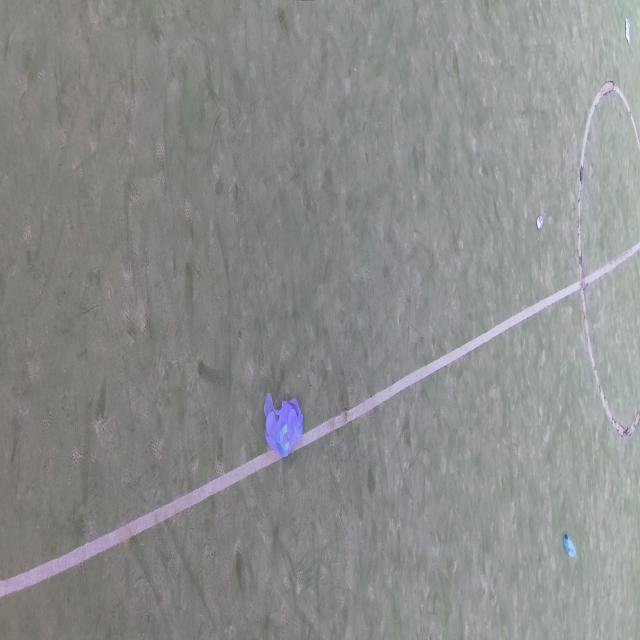rubbish: (264, 392, 304, 458), (564, 534, 578, 560), (625, 17, 631, 46), (537, 216, 543, 230)
